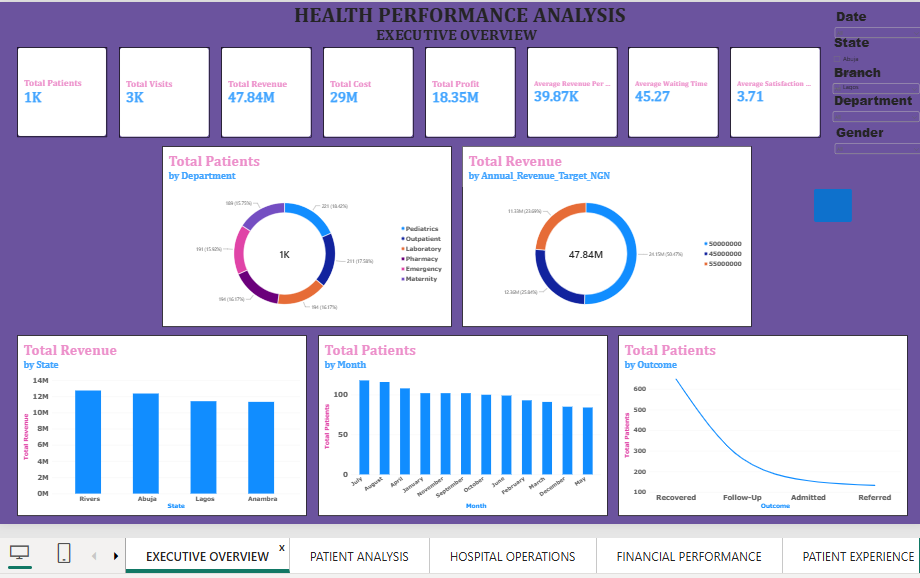

Layout of this report page (visuals, bound fields, positions):
{"tool":"powerbi","page":{"name":"EXECUTIVE OVERVIEW","canvas":[2560,1440],"ordinal":0},"visuals":[{"type":"cardVisual","fields":{"Data":["Date_Table.Total Patients"]},"box":[53.8,124.3,248.6,248.6],"z":0},{"type":"cardVisual","fields":{"Data":["Date_Table.Total Visits"]},"box":[333.8,124.3,250,250],"z":1000},{"type":"cardVisual","fields":{"Data":["Date_Table.Total Revenue"]},"box":[615.2,124.3,250,250],"z":2000},{"type":"cardVisual","fields":{"Data":["Date_Table.Total Cost"]},"box":[896.7,124.3,250,250],"z":3000},{"type":"cardVisual","fields":{"Data":["Date_Table.Total Profit"]},"box":[1178.1,124.3,250,250],"z":4000},{"type":"cardVisual","fields":{"Data":["Date_Table.Average Revenue per Patient"]},"box":[1459.6,124.3,250,250],"z":5000},{"type":"cardVisual","fields":{"Data":["Date_Table.Average Waiting Time"]},"box":[1741,124.3,250,250],"z":6000},{"type":"cardVisual","fields":{"Data":["Date_Table.Average Satisfaction Score"]},"box":[2022.5,124.3,250,250],"z":7000},{"type":"clusteredColumnChart","fields":{"Category":["Date_Table.Month"],"Y":["Date_Table.Total Patients"]},"box":[883.6,920.5,800,500],"z":8000},{"type":"clusteredColumnChart","fields":{"Category":["Patient_Visits.State"],"Y":["Date_Table.Total Revenue"]},"box":[53.8,920.5,800,500],"z":9000},{"type":"donutChart","fields":{"Category":["Patient_Visits.Department"],"Y":["Date_Table.Total Patients"]},"box":[453.5,396.4,800,500],"z":10000},{"type":"donutChart","fields":{"Category":["State_Targets.Annual_Revenue_Target_NGN"],"Y":["Date_Table.Total Revenue"]},"box":[1280,396.4,800,500],"z":11000},{"type":"lineChart","fields":{"Category":["Patient_Visits.Outcome"],"Y":["Date_Table.Total Patients"]},"box":[1713.4,920.5,800,500],"z":12000},{"type":"slicer","fields":{"Values":["Date_Table.Date"]},"box":[2304.7,16.8,248.6,248.6],"z":13000},{"type":"slicer","fields":{"Values":["Patient_Visits.State"]},"box":[2301.3,87.3,248.6,248.6],"z":14000},{"type":"slicer","fields":{"Values":["Patient_Visits.Branch"]},"box":[2301.3,171.3,248.6,248.6],"z":15000},{"type":"slicer","fields":{"Values":["Patient_Visits.Department"]},"box":[2301.3,248.6,248.6,171.3],"z":16000},{"type":"slicer","fields":{"Values":["Patient_Visits.Gender"]},"box":[2304.7,336,248.6,248.6],"z":17000},{"type":"textbox","box":[817.5,0,924.9,123.9],"z":18000},{"type":"textbox","box":[1044.8,63.8,470.3,77.3],"z":19000},{"type":"actionButton","box":[2254.5,517.5,104.6,90.8],"z":20000}]}

Visuals, with their boxes in screenshot pixels (x1, y1, x2, y2):
cardVisual - Date_Table.Total Patients: [x1=10, y1=43, x2=102, y2=135]
cardVisual - Date_Table.Total Visits: [x1=113, y1=43, x2=205, y2=135]
cardVisual - Date_Table.Total Revenue: [x1=216, y1=43, x2=308, y2=135]
cardVisual - Date_Table.Total Cost: [x1=320, y1=43, x2=412, y2=135]
cardVisual - Date_Table.Total Profit: [x1=423, y1=43, x2=515, y2=135]
cardVisual - Date_Table.Average Revenue per Patient: [x1=527, y1=43, x2=619, y2=135]
cardVisual - Date_Table.Average Waiting Time: [x1=630, y1=43, x2=722, y2=135]
cardVisual - Date_Table.Average Satisfaction Score: [x1=734, y1=43, x2=825, y2=135]
clusteredColumnChart - Date_Table.Month x Date_Table.Total Patients: [x1=315, y1=336, x2=609, y2=520]
clusteredColumnChart - Patient_Visits.State x Date_Table.Total Revenue: [x1=10, y1=336, x2=304, y2=520]
donutChart - Patient_Visits.Department x Date_Table.Total Patients: [x1=157, y1=143, x2=451, y2=327]
donutChart - State_Targets.Annual_Revenue_Target_NGN x Date_Table.Total Revenue: [x1=461, y1=143, x2=755, y2=327]
lineChart - Patient_Visits.Outcome x Date_Table.Total Patients: [x1=620, y1=336, x2=914, y2=520]
slicer - Date_Table.Date: [x1=837, y1=4, x2=919, y2=95]
slicer - Patient_Visits.State: [x1=836, y1=30, x2=919, y2=121]
slicer - Patient_Visits.Branch: [x1=836, y1=61, x2=919, y2=152]
slicer - Patient_Visits.Department: [x1=836, y1=89, x2=919, y2=152]
slicer - Patient_Visits.Gender: [x1=837, y1=121, x2=919, y2=212]
textbox: [x1=291, y1=0, x2=631, y2=43]
textbox: [x1=374, y1=21, x2=547, y2=49]
actionButton: [x1=819, y1=188, x2=857, y2=221]
